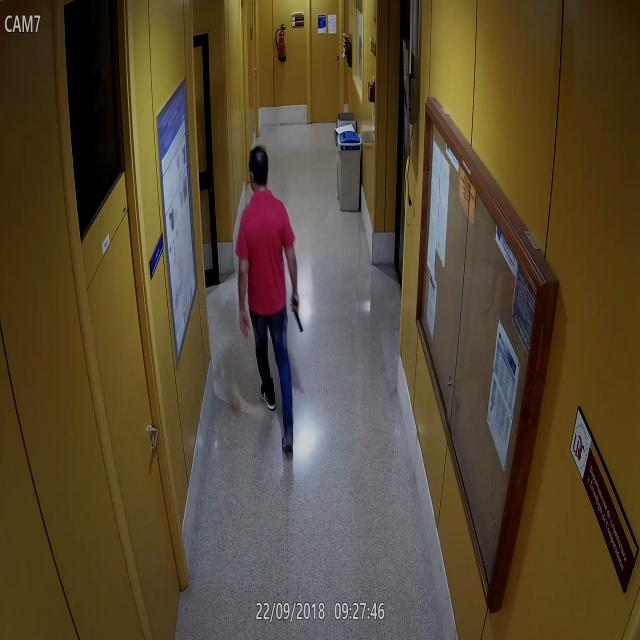pistol: (289, 296, 302, 333)
